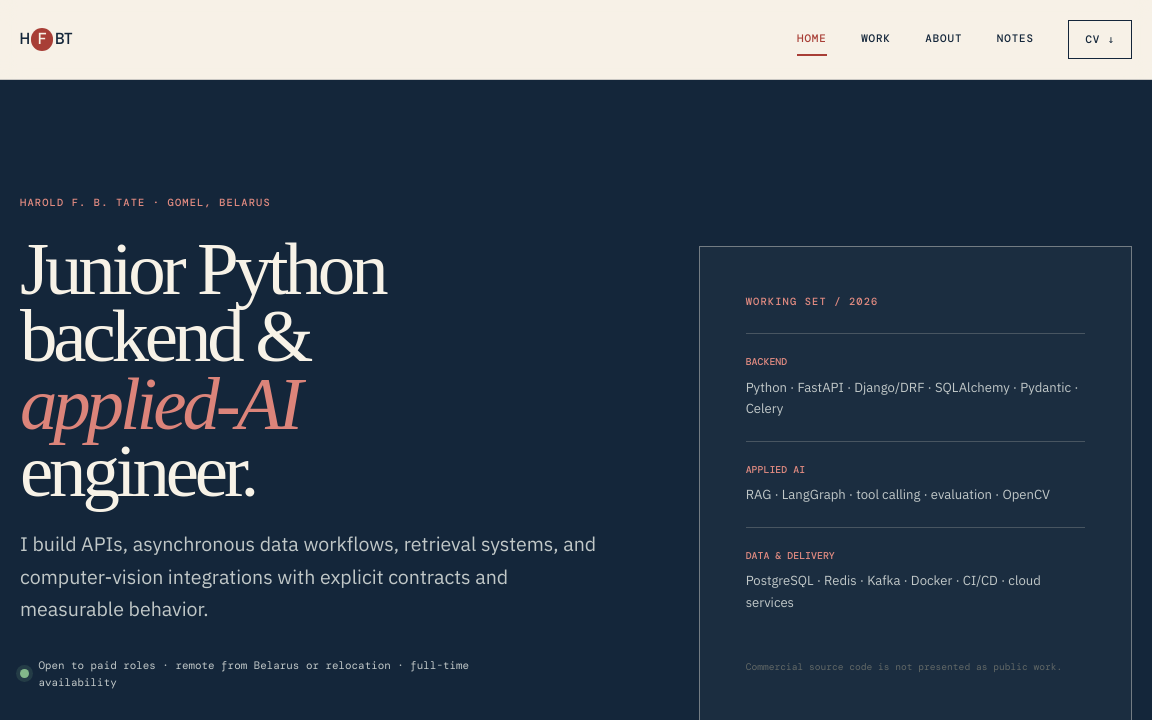
it: portfolio › navigates between real client-side routes
The width and height of the screenshot is (1152, 720).
Click the link "Work" at (876, 38), box x1=861 y1=31 x2=891 y2=45
(page scrolled)
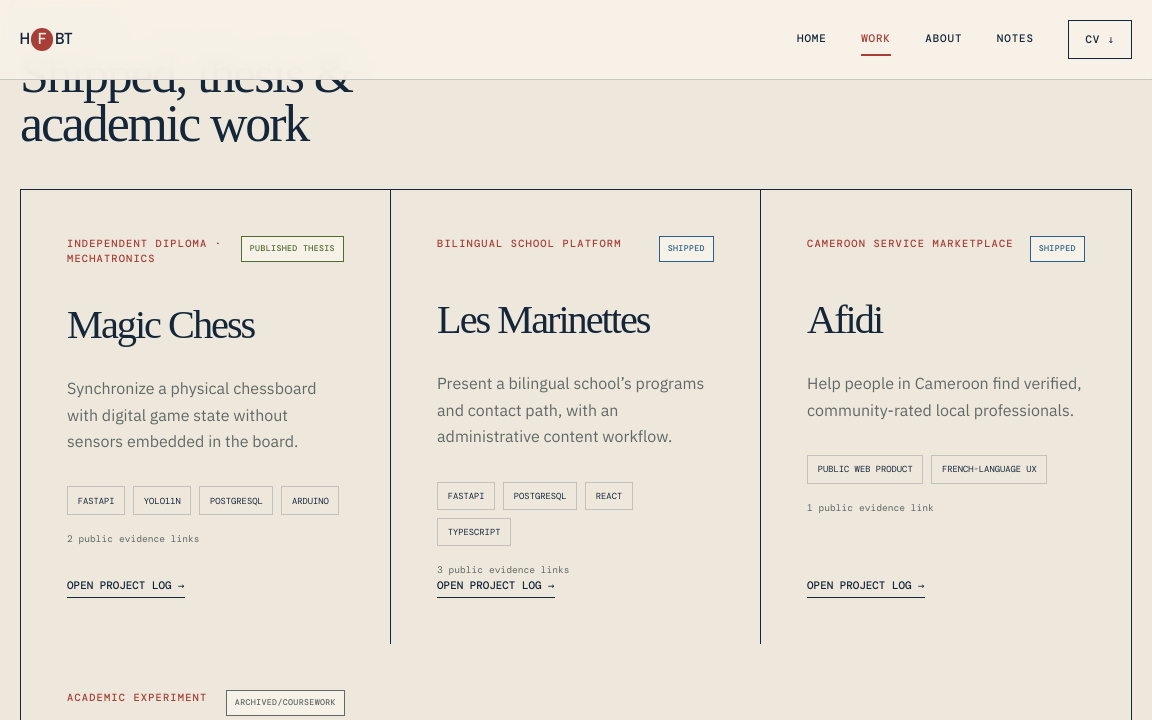
Click the link "Magic Chess" at (206, 417), box x1=67 y1=236 x2=344 y2=598
(page scrolled)
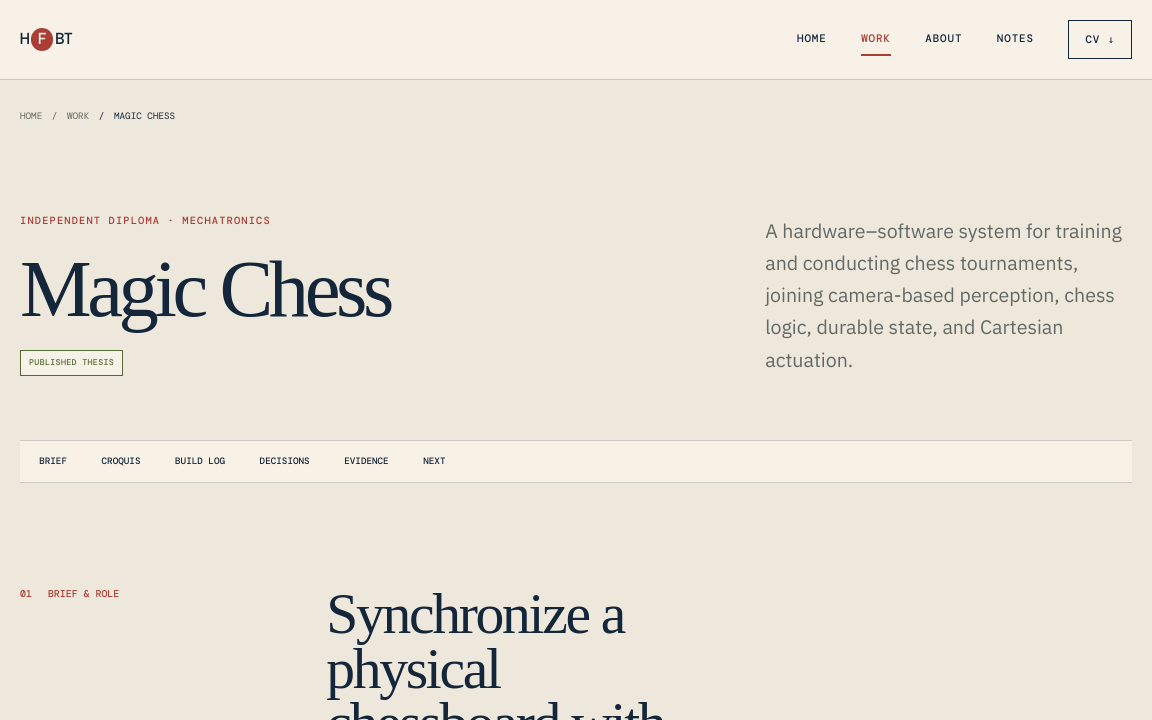
Expected: the heading "Magic Chess" is shown, x1=20 y1=244 x2=390 y2=333
